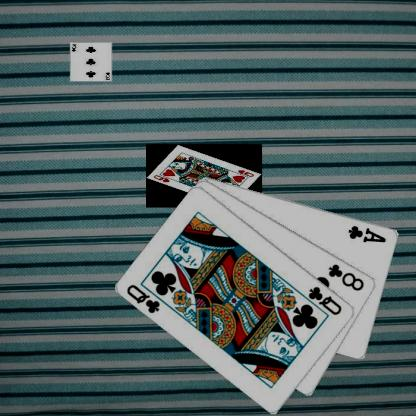8C: (326, 261, 366, 292)
AC: (346, 222, 387, 244)
QC: (306, 283, 343, 317), (124, 282, 162, 315)
